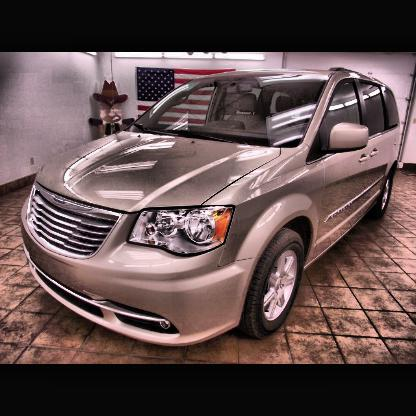Chrysler Town and Country Minivan 2012: (11, 69, 415, 355)
